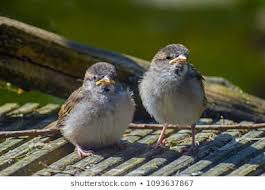hsparrow: (48, 60, 133, 159), (135, 43, 211, 149)
